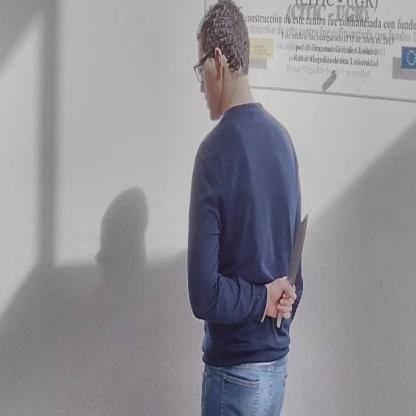knife: (274, 204, 313, 331)
